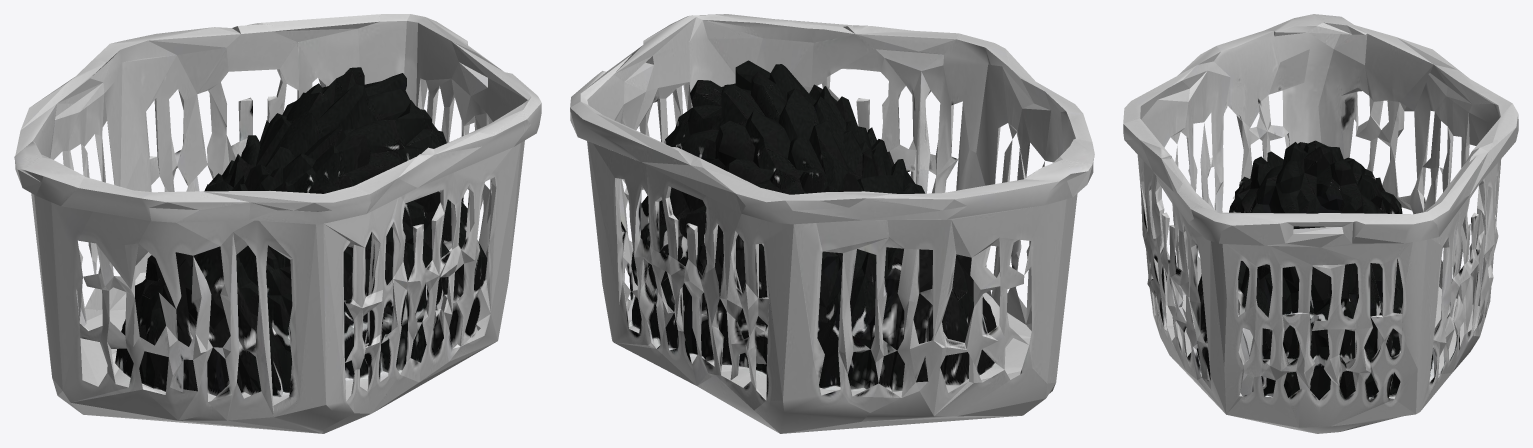
Rendered from laundry-basket.glb.
3 views of the same model, side by side, from view 1: azimuth 30°, elevation 25°; view 2: azimuth 150°, elevation 25°; view 3: azimuth 270°, elevation 25° (orthographic). The views are drawn at different scales.
Parts seen in each view (by area): view 1: Mesh_0; view 2: Mesh_0; view 3: Mesh_0.
Boxes of the visible parts, x1,y1,x2,y2 form: Mesh_0: (14,14,541,433); Mesh_0: (570,14,1094,433); Mesh_0: (1123,14,1518,433).
Bounding box in the file's own units: 0.53 × 0.3 × 0.43.
Materials: 1 (1 with a texture image).
